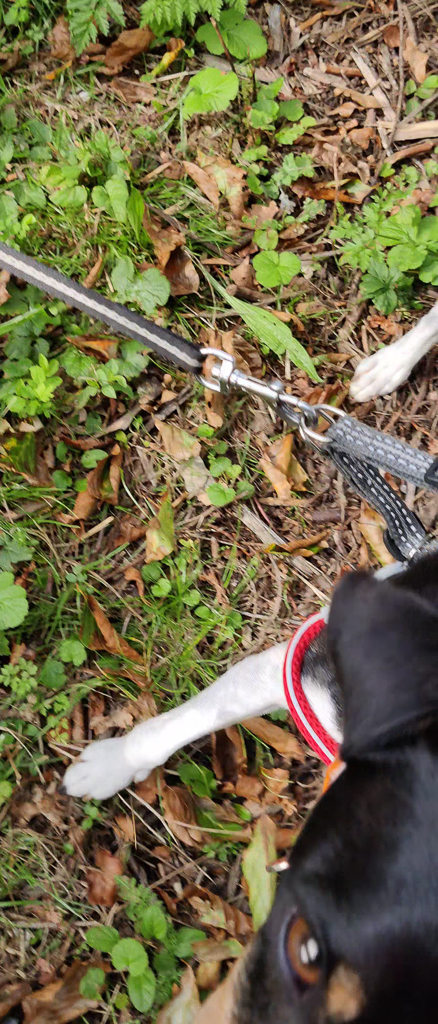Dog: (47, 291, 438, 1024)
